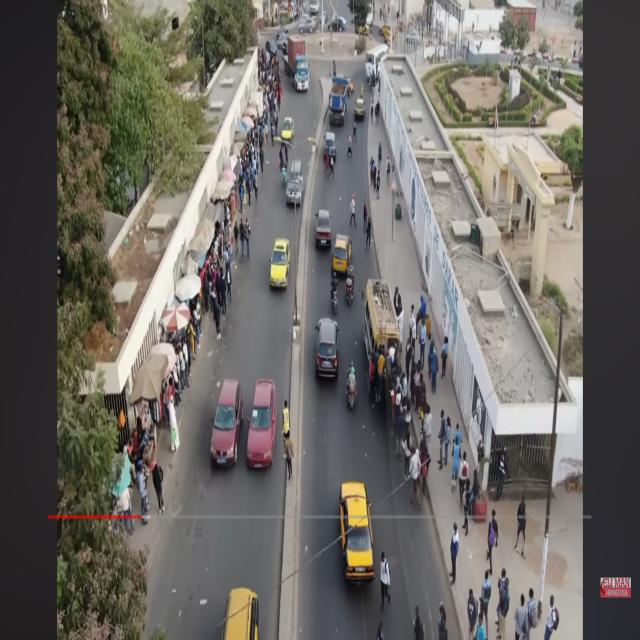bus tata: (365, 42, 391, 88)
camion: (329, 74, 351, 132), (290, 38, 310, 94)
car rapide: (362, 276, 405, 407)
particulier: (210, 366, 245, 472), (247, 370, 277, 475), (317, 317, 342, 386), (286, 160, 307, 213), (315, 210, 334, 251), (325, 126, 336, 167)
taxi: (342, 485, 377, 584), (219, 572, 261, 640), (268, 234, 292, 299), (333, 236, 354, 278), (282, 115, 295, 148), (355, 93, 369, 123)
